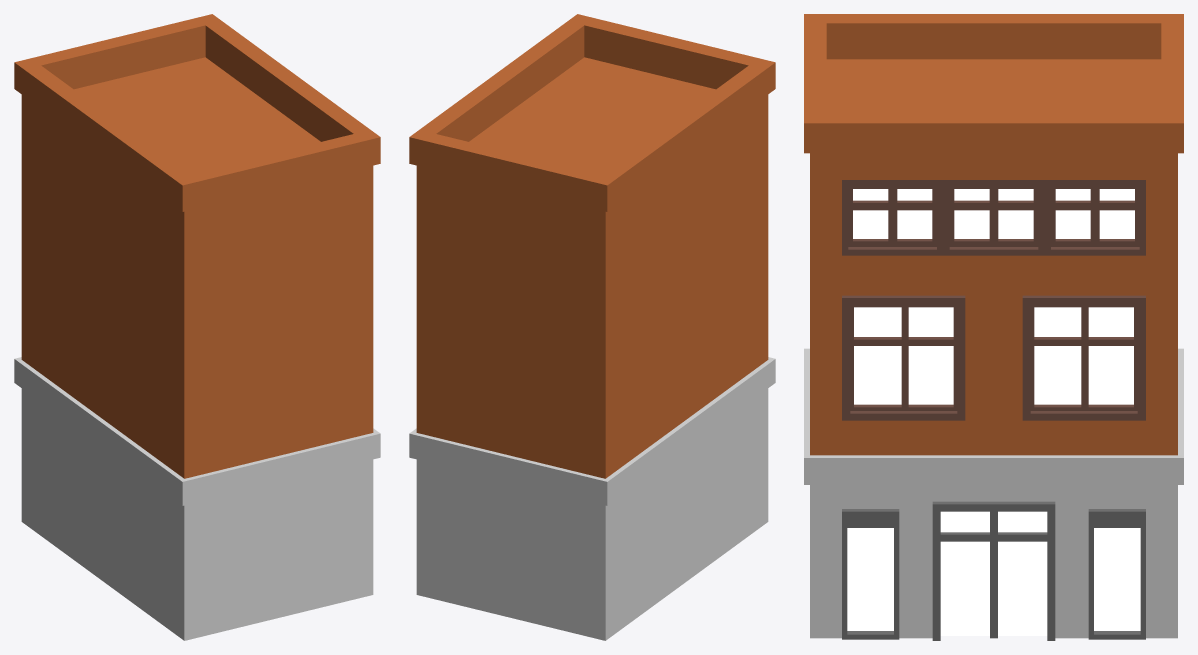
File: House 5.1.fbx
3 renders of one model, left to right at view 1: azimuth 30°, elevation 25°; view 2: azimuth 150°, elevation 25°; view 3: azimuth 270°, elevation 25°, orthographic. The views are drawn at different scales.
Visible parts, largest first — view 1: House 5.002; view 2: House 5.002; view 3: House 5.002.
Boxes of the visible parts, box(x1,y1,x2,y2) form: House 5.002: box(14, 14, 380, 640); House 5.002: box(409, 14, 775, 640); House 5.002: box(804, 14, 1183, 640).
Bounding box in the file's own units: 869 × 1923 × 1279.
